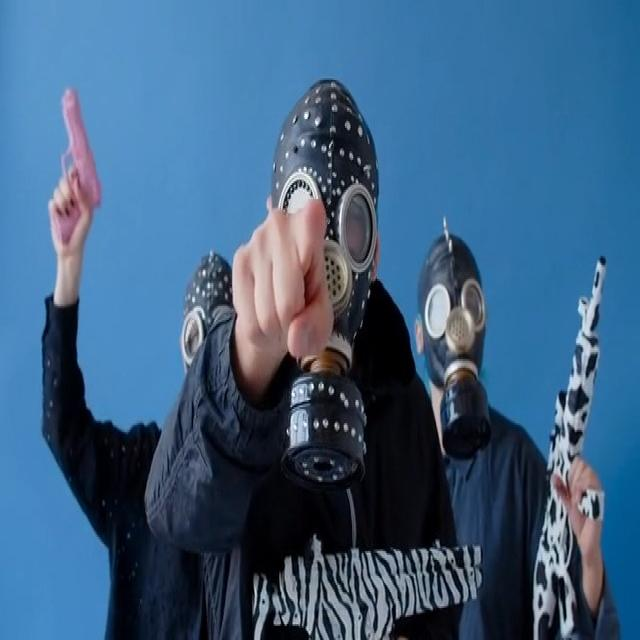Gun_Holder: (512, 233, 630, 640), (22, 77, 106, 284)
Person: (144, 78, 454, 640), (409, 192, 611, 640)
